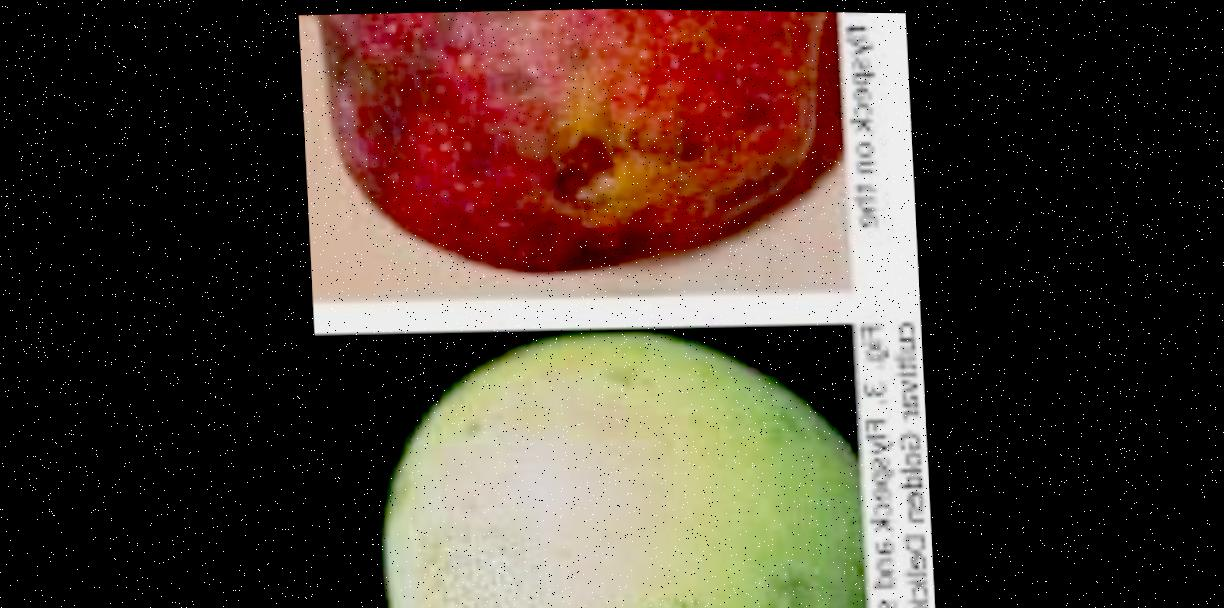BLOTCH: (317, 337, 862, 608), (303, 4, 830, 251)
